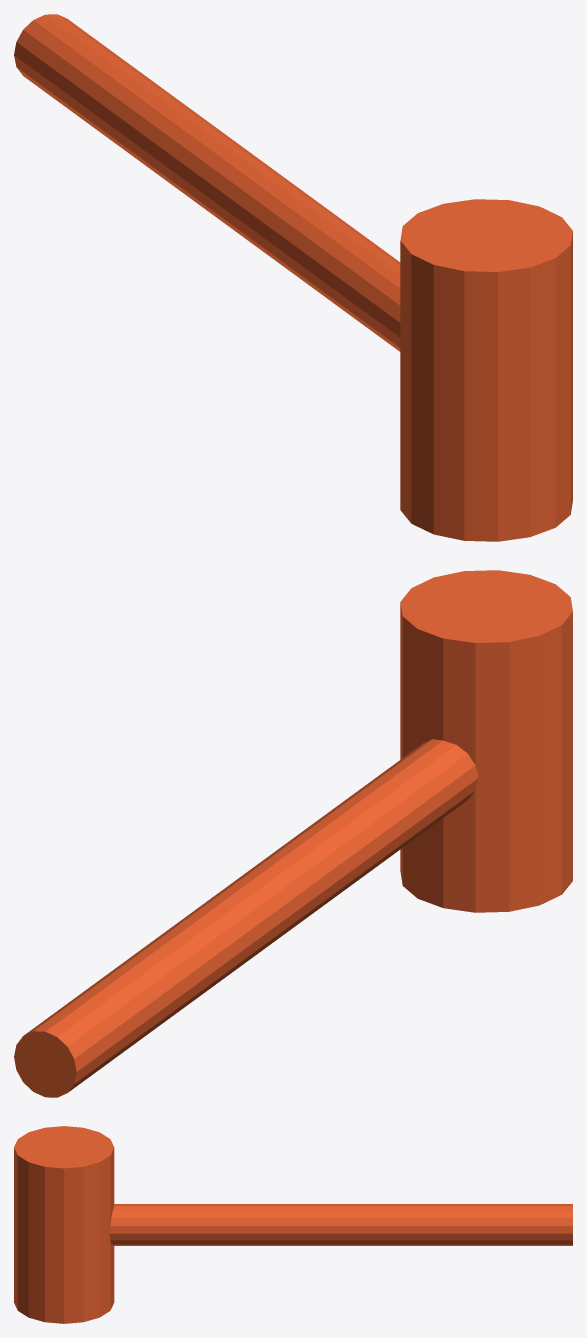
File: hammer.glb
3 renders of one model, top to bottom at view 1: azimuth 30°, elevation 25°; view 2: azimuth 150°, elevation 25°; view 3: azimuth 270°, elevation 25°, orthographic. The views are drawn at different scales.
Visible parts, largest first — view 1: hammer_1; view 2: hammer_1; view 3: hammer_1.
Boxes of the visible parts, bbox=[...] form: hammer_1: bbox=[14, 14, 572, 541]; hammer_1: bbox=[14, 570, 572, 1097]; hammer_1: bbox=[14, 1126, 572, 1323].
Size of the model in its own units: 10.1 by 17.27 by 56.28.
